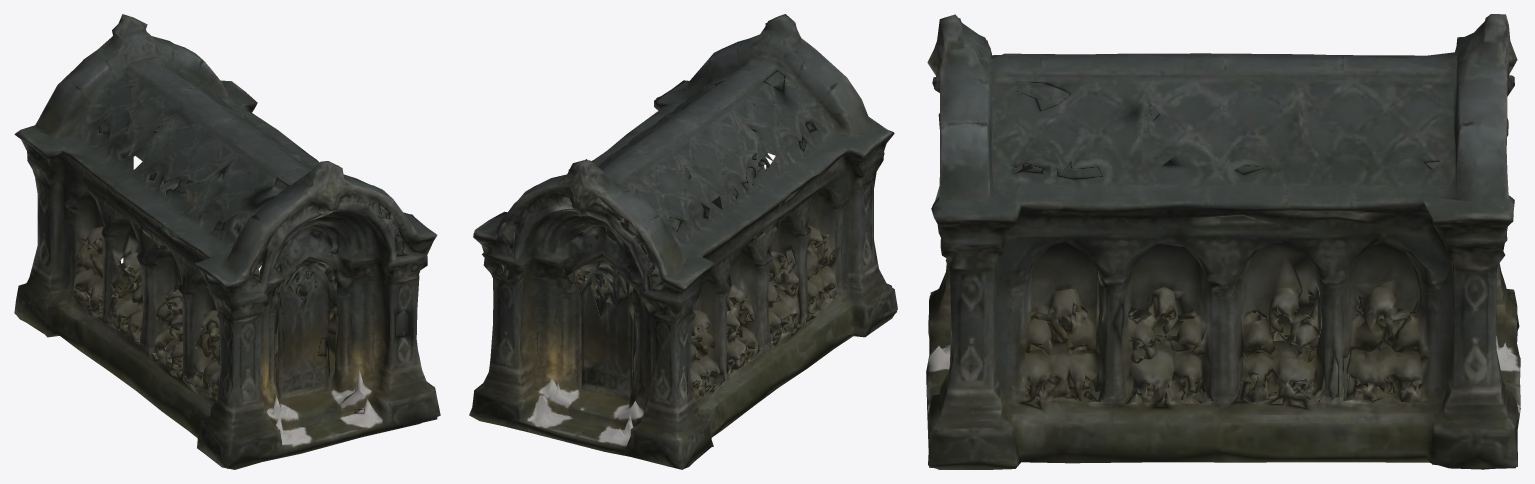
Rendered from ossuary.glb.
3 views of the same model, side by side, from view 1: azimuth 30°, elevation 25°; view 2: azimuth 150°, elevation 25°; view 3: azimuth 270°, elevation 25° (orthographic). The views are drawn at different scales.
Visible parts, largest first — view 1: geometry_0; view 2: geometry_0; view 3: geometry_0.
Boxes of the visible parts, left/top/right/bottom form: geometry_0: left=14, top=14, right=440, bottom=469; geometry_0: left=469, top=14, right=897, bottom=469; geometry_0: left=926, top=14, right=1520, bottom=469.
Size of the model in its own units: 0.5742 by 0.7144 by 0.9989.
1 material, 1 textured.
